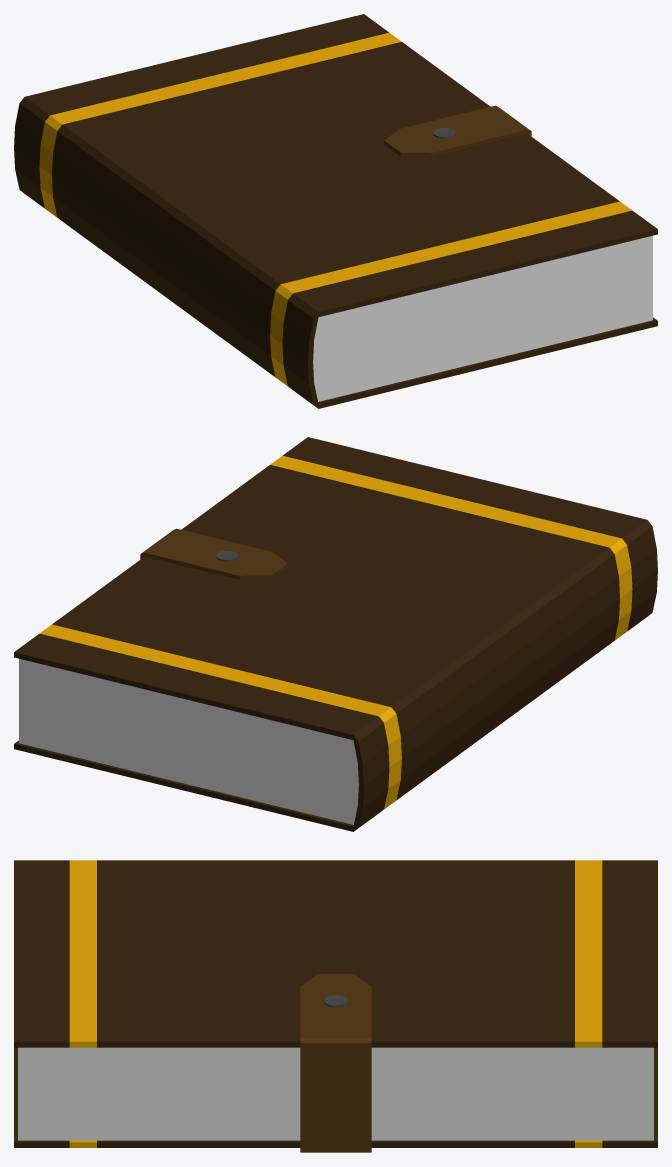
The model's file is Book_V3.fbx.
The picture shows the model from 3 angles, top to bottom: view 1: azimuth 30°, elevation 25°; view 2: azimuth 150°, elevation 25°; view 3: azimuth 270°, elevation 25°; orthographic projection. The views are drawn at different scales.
Parts seen in each view (by area): view 1: Book_Visual; view 2: Book_Visual; view 3: Book_Visual.
Part boxes in pixels (bbox=[...]): Book_Visual: bbox=[14, 14, 657, 408]; Book_Visual: bbox=[14, 437, 657, 831]; Book_Visual: bbox=[14, 860, 657, 1152].
Size of the model in its own units: 209 by 59.77 by 300.
